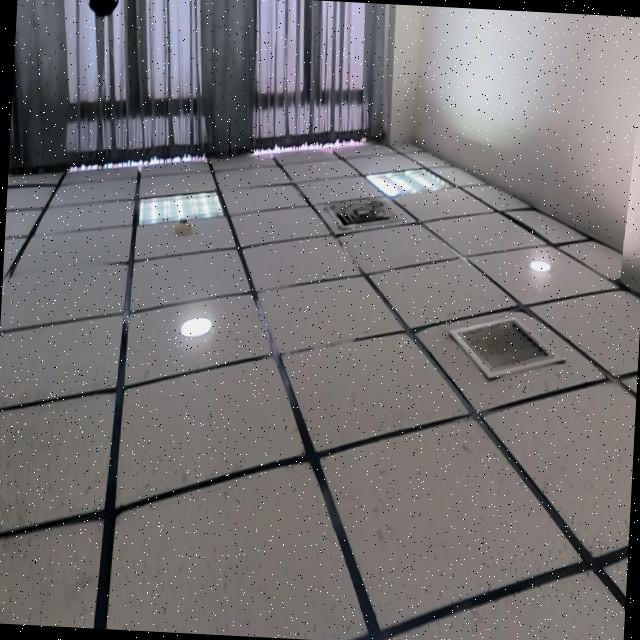Light: (138, 189, 223, 224), (366, 167, 448, 196), (180, 316, 210, 336), (529, 259, 550, 273)
